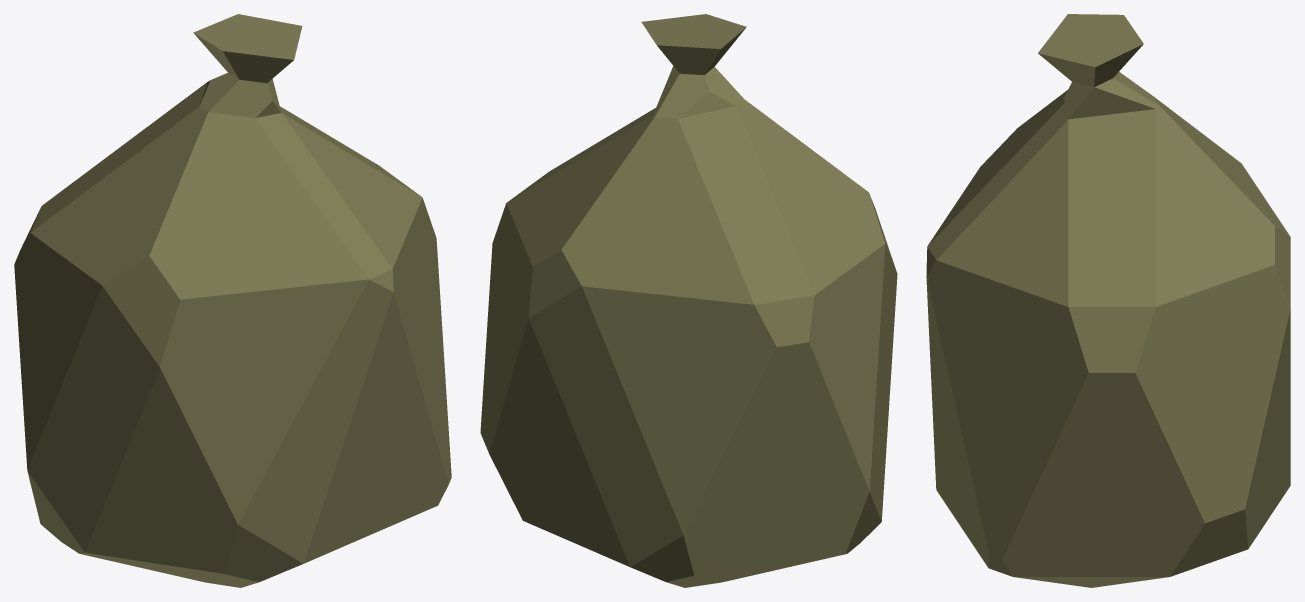
The picture shows the model from 3 angles, left to right: view 1: azimuth 30°, elevation 25°; view 2: azimuth 150°, elevation 25°; view 3: azimuth 270°, elevation 25°; orthographic projection.
Parts seen in each view (by area): view 1: Icosphere; view 2: Icosphere; view 3: Icosphere.
Boxes of the visible parts, x1,y1,x2,y2 form: Icosphere: [14, 14, 451, 587]; Icosphere: [480, 14, 897, 587]; Icosphere: [926, 14, 1290, 587].
Size of the model in its own units: 523 by 704 by 429.
